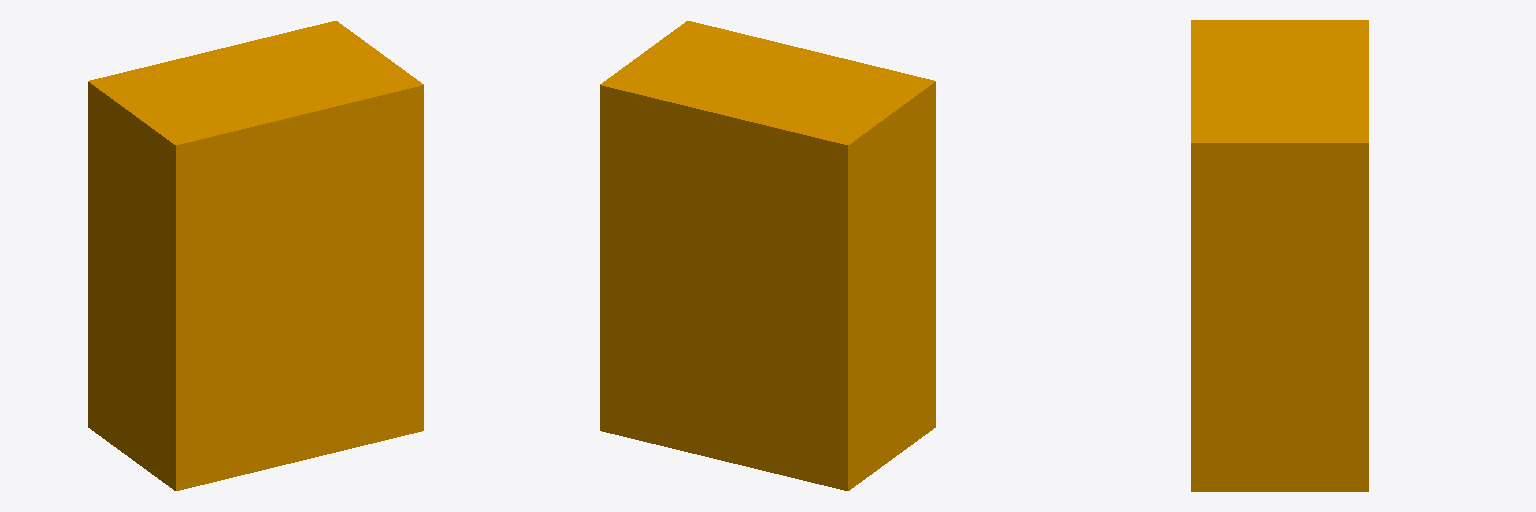
robot.urdf — objA.off:
<?xml version="1.0"?>
<robot name="objA.off">
	<link name="objA.off">
		<inertial>
			<!--origin xyz="0 0 0" rpy="0 0 0" /-->
			<mass value="0.5" />
			<!--inertia ixx="0.000360" ixy="0" ixz="0" iyy="0.0000615" iyz="0" izz="0.00036" /-->
		</inertial>
    		<visual>
	      		<!--origin rpy="0 0 0" xyz="0 0 0"/-->
      			<geometry>
        			<mesh filename="objA.off.obj"/>
      			</geometry>
         	</visual>
    		<collision>
      			<!--origin rpy="0 0 0" xyz="0 0 0"/-->
      			<geometry>
        			<mesh filename="objA.off.obj"/>
      			</geometry>
    		</collision>
	</link>
</robot>

--- Render facts (derived) ---
3 views of the same robot in one strip: view 1: azimuth 30°, elevation 25°; view 2: azimuth 150°, elevation 25°; view 3: azimuth 270°, elevation 25° (orthographic).
Model objA.off with 1 links and 0 joints (none), rooted at objA.off, posed every joint at zero.
Links seen in each view (by area): view 1: objA.off; view 2: objA.off; view 3: objA.off.
Link boxes in pixels (bbox=[...]): objA.off: bbox=[88, 21, 423, 490]; objA.off: bbox=[600, 21, 935, 490]; objA.off: bbox=[1191, 20, 1368, 491].
Size in the robot's own frame: 0.088 by 0.054 by 0.117 metres.
1 mesh visuals loaded from 1 distinct referenced files (1 OBJ).